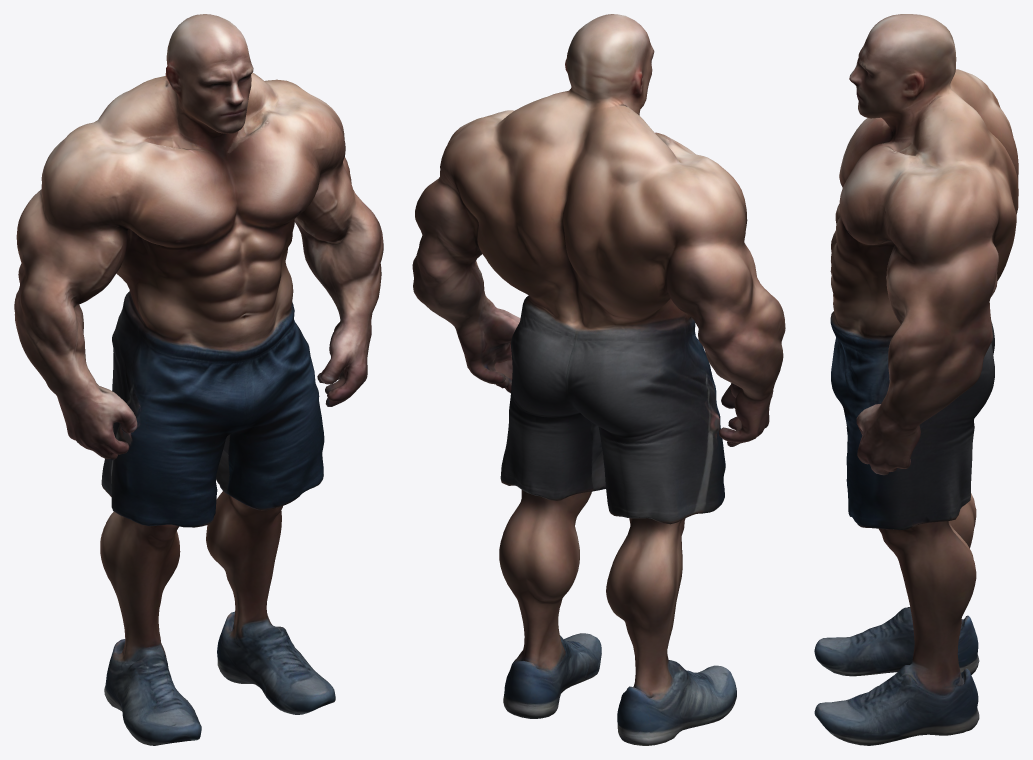
The model's file is bodybuilder.glb.
3 renders of one model, left to right at view 1: azimuth 30°, elevation 25°; view 2: azimuth 150°, elevation 25°; view 3: azimuth 270°, elevation 25°, orthographic.
Parts seen in each view (by area): view 1: Mesh_0; view 2: Mesh_0; view 3: Mesh_0.
Part boxes in pixels (bbox=[...]): Mesh_0: bbox=[14, 14, 383, 745]; Mesh_0: bbox=[412, 14, 785, 745]; Mesh_0: bbox=[814, 14, 1018, 745].
Size of the model in its own units: 1.06 by 2 by 0.5389.
Materials: 1 (1 with a texture image).
